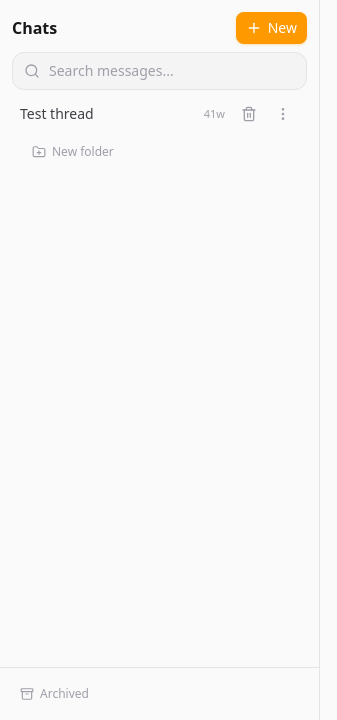
Test: ThreadSidebar global search › shows "No results found" when every category is empty
This screenshot has width=337, height=720.
Type "zzznomatch" into the field with placeholder "Search messages..." at (160, 71), box [12,52,307,90]
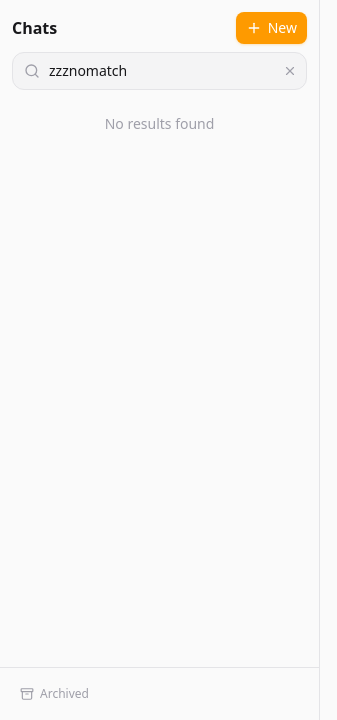
Now the text "No results found" is shown, box [105,114,214,133]
